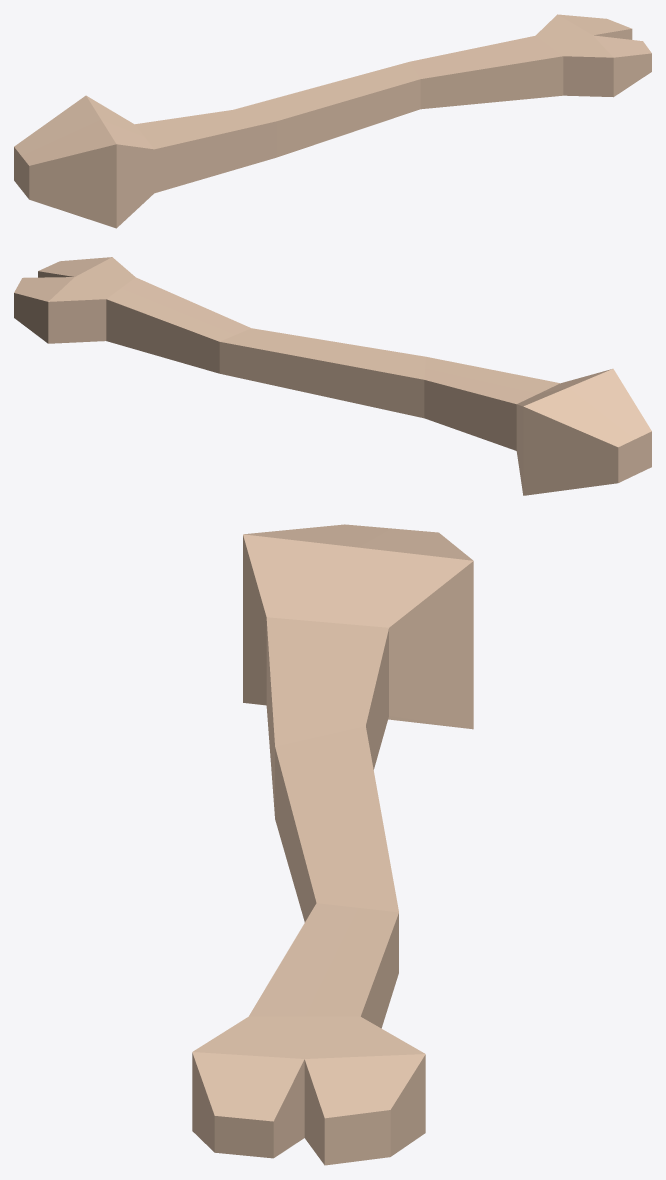
File: Bone.fbx
3 renders of one model, top to bottom at view 1: azimuth 30°, elevation 25°; view 2: azimuth 150°, elevation 25°; view 3: azimuth 270°, elevation 25°, orthographic. The views are drawn at different scales.
Parts seen in each view (by area): view 1: Bone; view 2: Bone; view 3: Bone.
Part boxes in pixels (x1,y1,x2,y2): Bone: [14, 14, 651, 228]; Bone: [14, 257, 651, 495]; Bone: [192, 524, 473, 1165].
Size of the model in its own units: 177 by 23.81 by 36.05.
